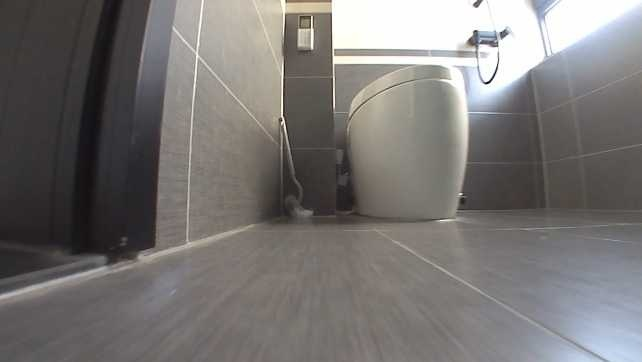toilet: (341, 61, 471, 219)
